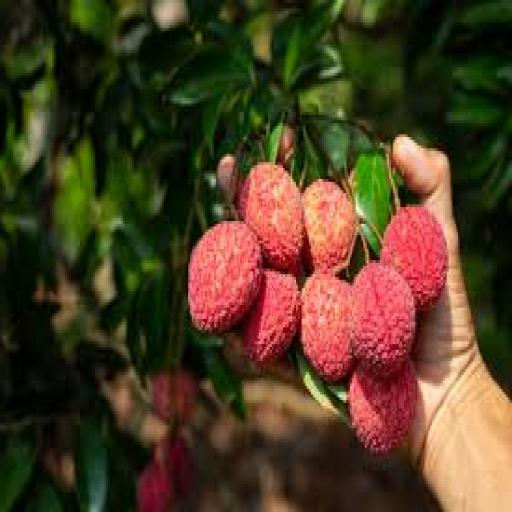lychee: (188, 222, 261, 332), (351, 263, 414, 377), (379, 208, 447, 310), (238, 163, 302, 271), (348, 361, 416, 453), (299, 272, 352, 383), (242, 269, 298, 363), (301, 180, 356, 274), (150, 370, 198, 425), (154, 434, 192, 498), (137, 459, 172, 511), (215, 154, 241, 201)
